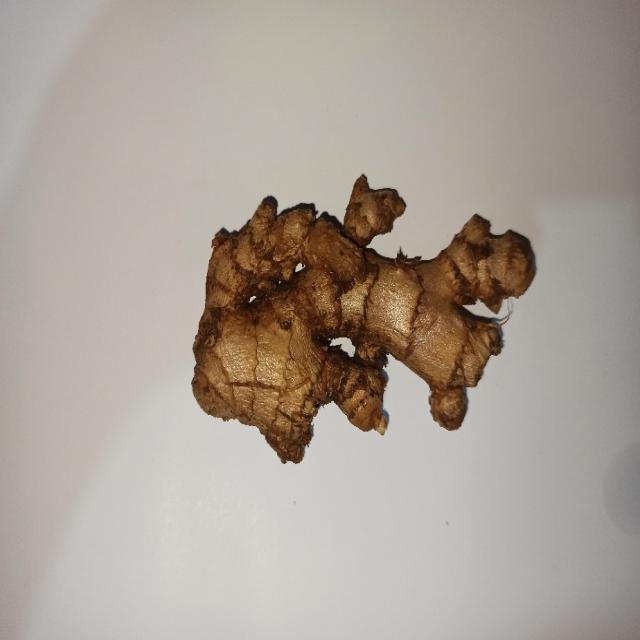ginger: (193, 169, 535, 460)
